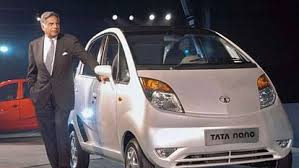Nano: (74, 30, 294, 168)
